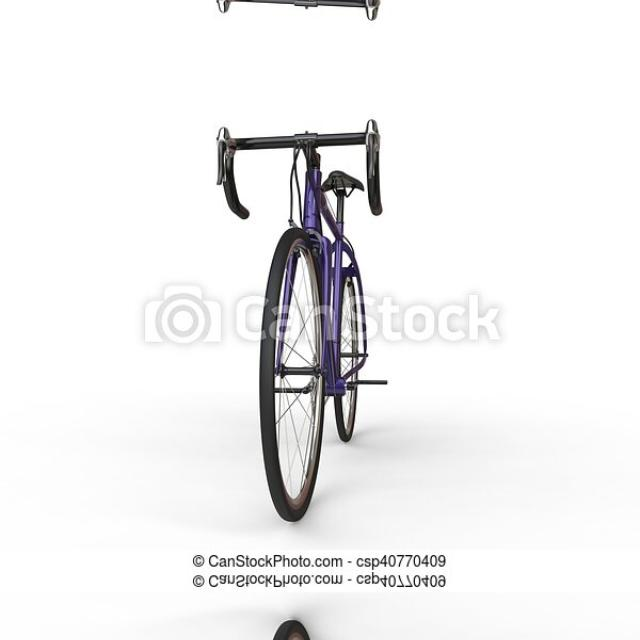obstacle: (212, 119, 396, 524), (212, 617, 396, 640), (212, 0, 396, 19)
